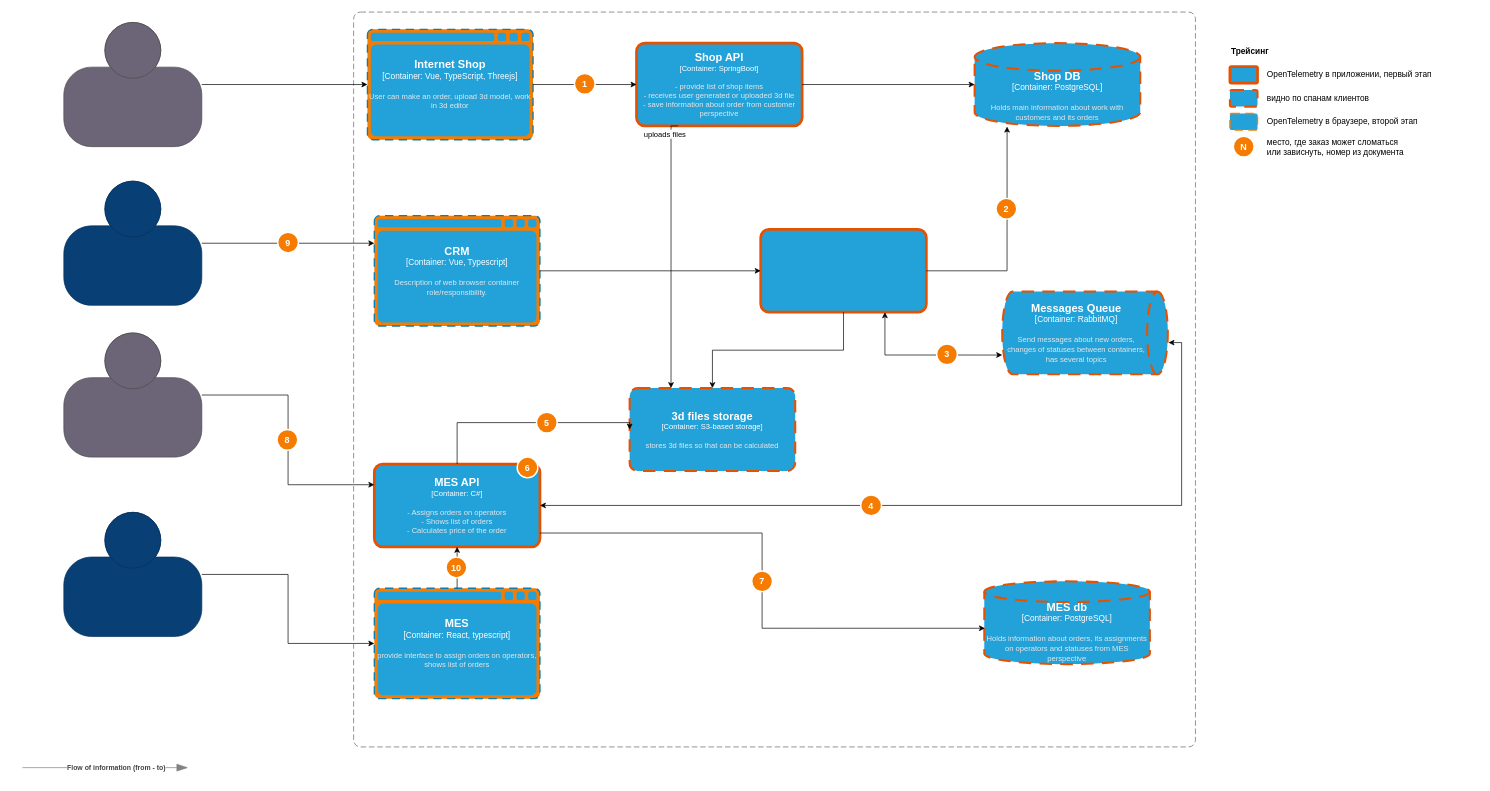
Some shapes in this 1490 by 791 pixel diagram are drawn without their labels. The shapes that lost their labels are listed below. From the top down, each one's box as (x1, y1, x2, y2) in pixels, then its label:
(63, 22, 202, 147): Customer [Person] Description of external person.
(63, 180, 202, 305): Seller [Person] Operates with order, confirms manufacturing for the user
(759, 228, 927, 313): CRM API [Container: SpringBoot] Description of container role/responsibility.
(63, 332, 202, 457): API user [Person] Description of external person.
(353, 11, 1195, 747): Jewerly Store System [Software System]
(63, 512, 202, 637): Operator [Person] Takes order in work, manufactures jewerly
